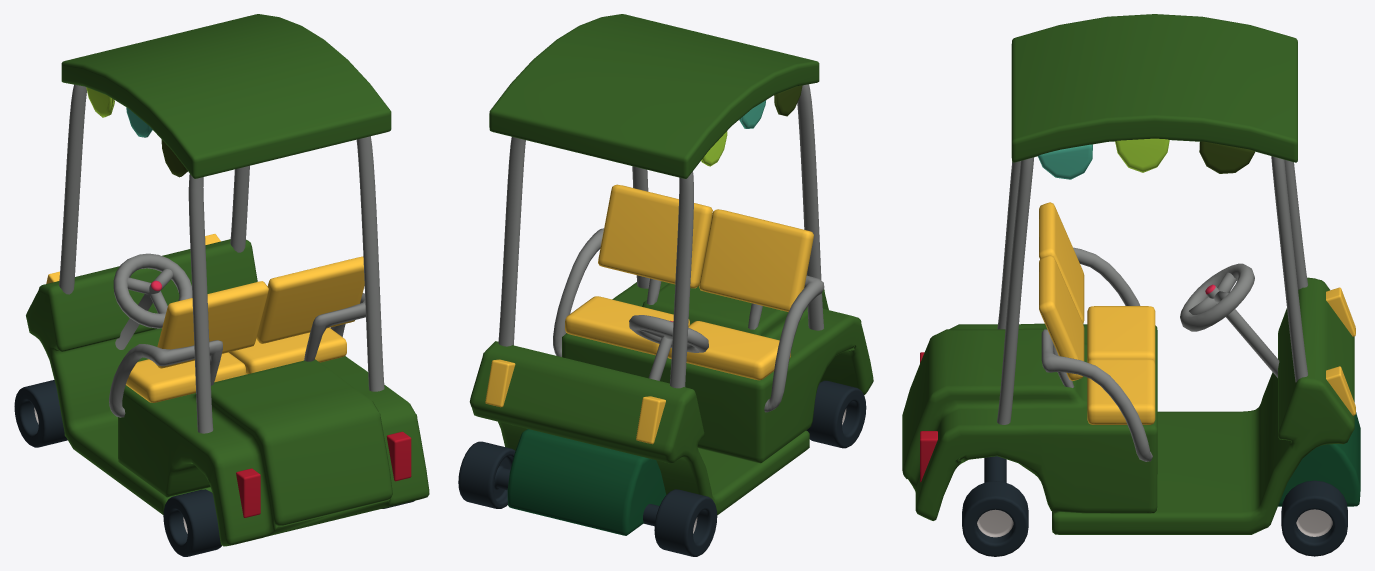
The model's file is SM_Golfcart.fbx.
The picture shows the model from 3 angles, left to right: view 1: azimuth 30°, elevation 25°; view 2: azimuth 150°, elevation 25°; view 3: azimuth 270°, elevation 25°; orthographic projection. The views are drawn at different scales.
Parts seen in each view (by area): view 1: Golfcart.001; view 2: Golfcart.001; view 3: Golfcart.001.
Boxes of the visible parts, x1,y1,x2,y2 form: Golfcart.001: [14, 14, 429, 556]; Golfcart.001: [458, 14, 873, 556]; Golfcart.001: [902, 14, 1360, 556].
Size of the model in its own units: 148 by 251 by 238.
